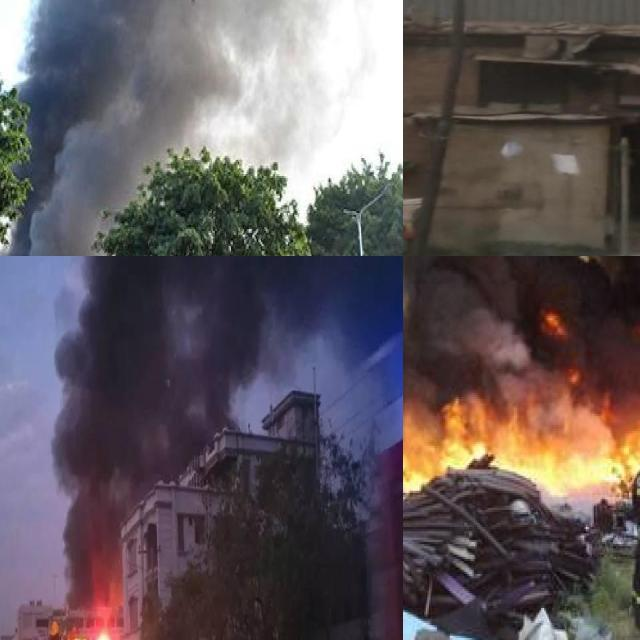fire: (403, 333, 640, 525), (46, 622, 116, 640)
smoke: (0, 0, 368, 256), (50, 256, 312, 608), (403, 256, 640, 395)
